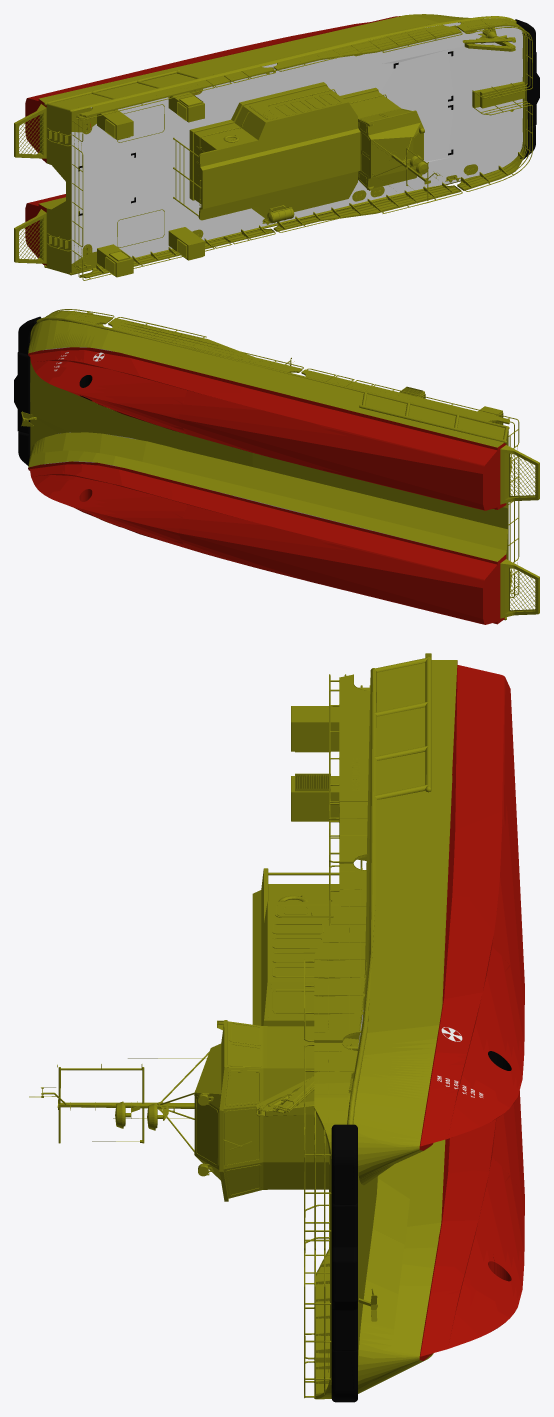
File: cat24.glb
The picture shows the model from 3 angles, top to bottom: view 1: azimuth 30°, elevation 25°; view 2: azimuth 150°, elevation 25°; view 3: azimuth 270°, elevation 25°; orthographic projection. The views are drawn at different scales.
Visible parts, largest first — view 1: ctv; view 2: ctv; view 3: ctv.
Part boxes in pixels (left/top/right/bottom): ctv: left=14, top=14, right=539, bottom=280; ctv: left=14, top=309, right=539, bottom=624; ctv: left=29, top=653, right=524, bottom=1402.
Bounding box in the file's own units: 27.78 × 8.75 × 11.89.
